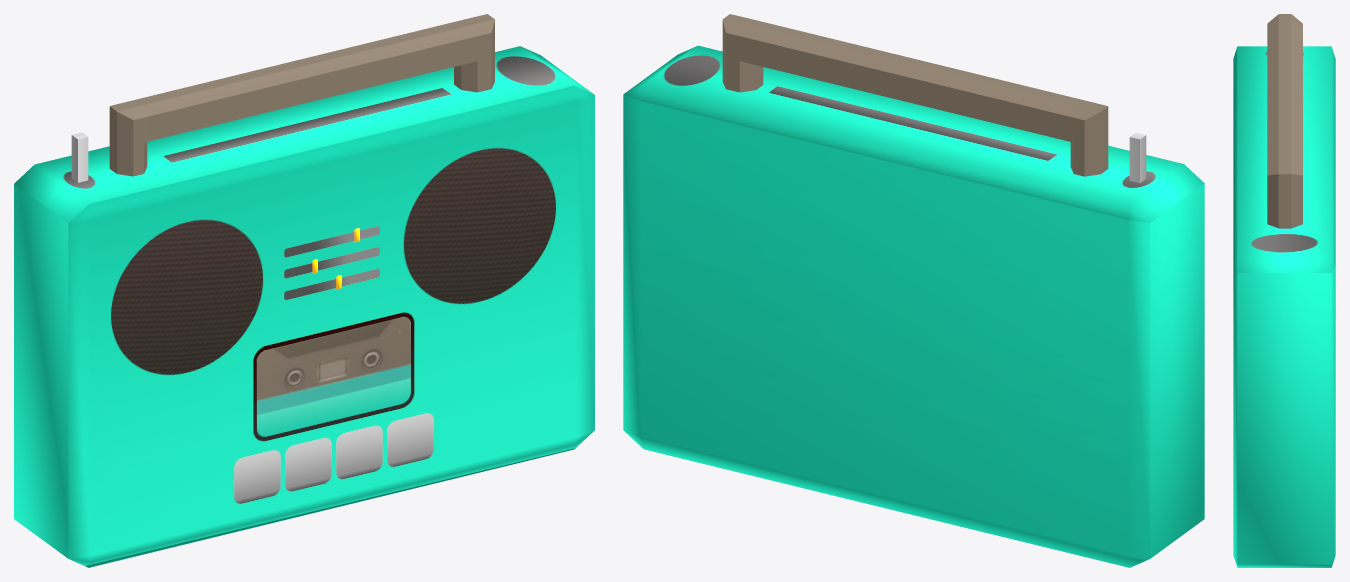
The model's file is green_radio.glb.
3 views of the same model, side by side, from view 1: azimuth 30°, elevation 25°; view 2: azimuth 150°, elevation 25°; view 3: azimuth 270°, elevation 25° (orthographic). The views are drawn at different scales.
Parts seen in each view (by area): view 1: Green_Radio; view 2: Green_Radio; view 3: Green_Radio.
Part boxes in pixels (left/top/right/bottom): Green_Radio: left=14, top=14, right=594, bottom=567; Green_Radio: left=623, top=14, right=1204, bottom=567; Green_Radio: left=1233, top=14, right=1335, bottom=567.
Bounding box in the file's own units: 0.7691 × 0.5949 × 0.1489.
Materials: 1 (1 with a texture image).
